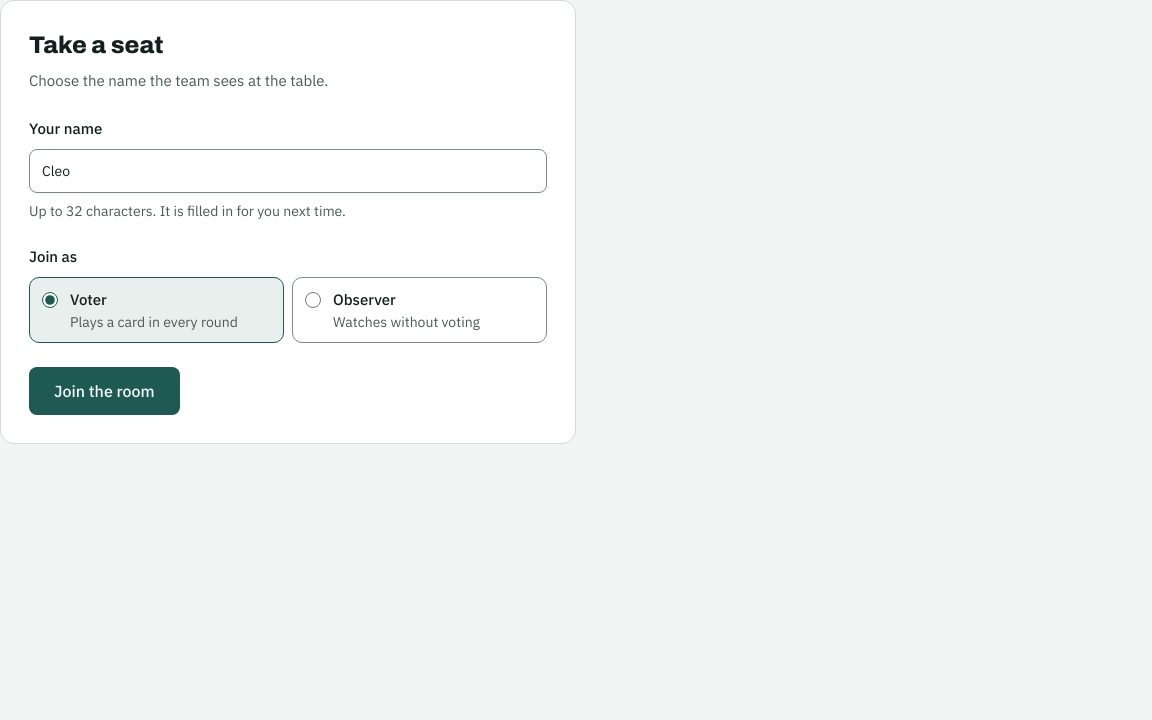
Test case: the join form › prefills the saved name, saves it, then joins with the role picked
expect the radio button labelled "Voter Plays a card in every round" is checked: met, box [42,292,58,308]
Replace the text in the field labelled "Your name" with "  Cleo   M " at (288,171), box [29,149,547,193]
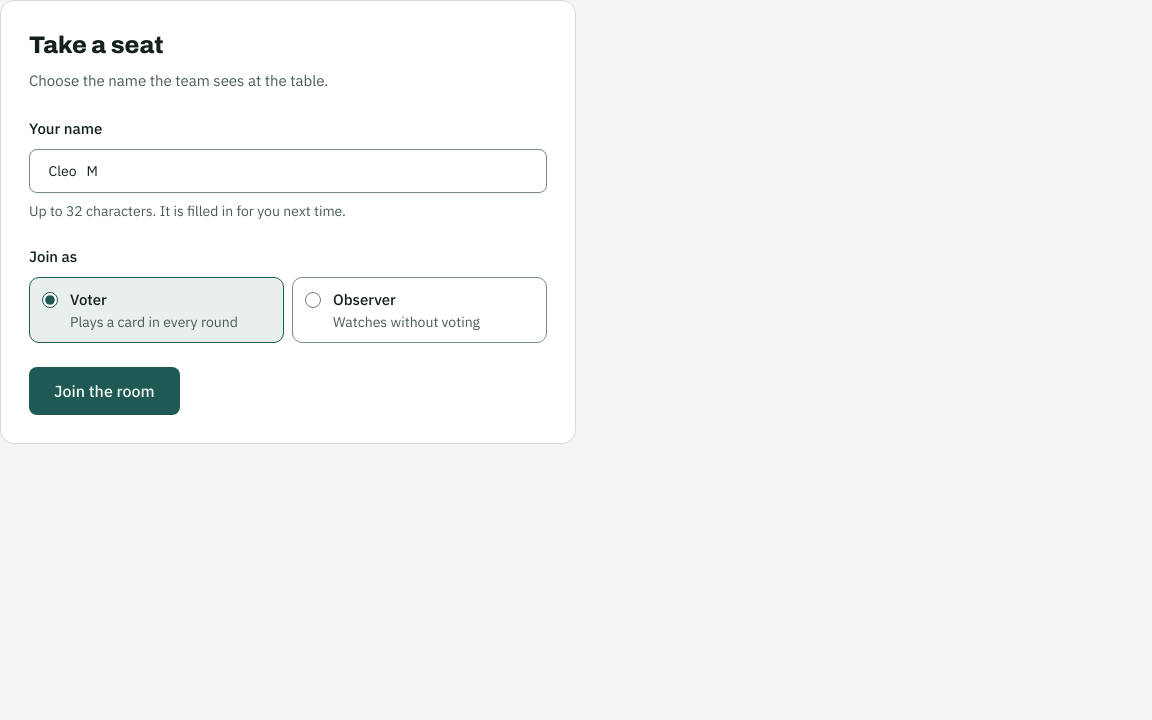
Click the radio button labelled "Observer Watches without voting" at (313,300), box [305,292,321,308]
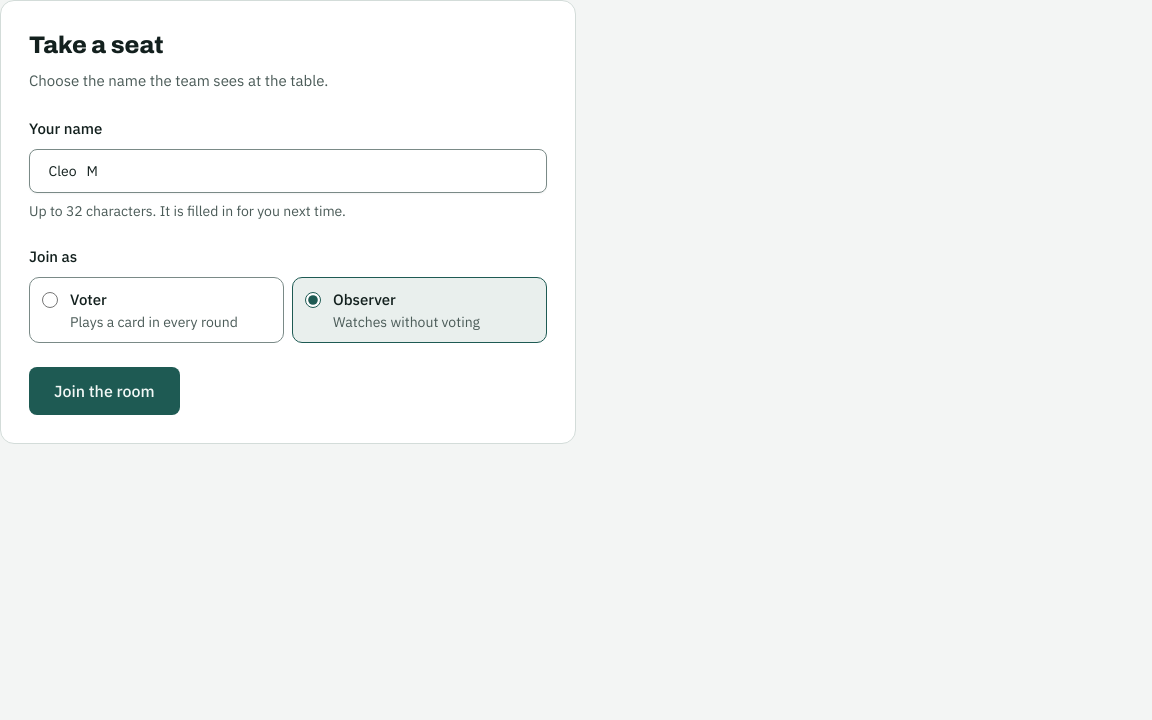
Click the button "Join the room" at (104,391), box [29,367,180,415]
(page scrolled)
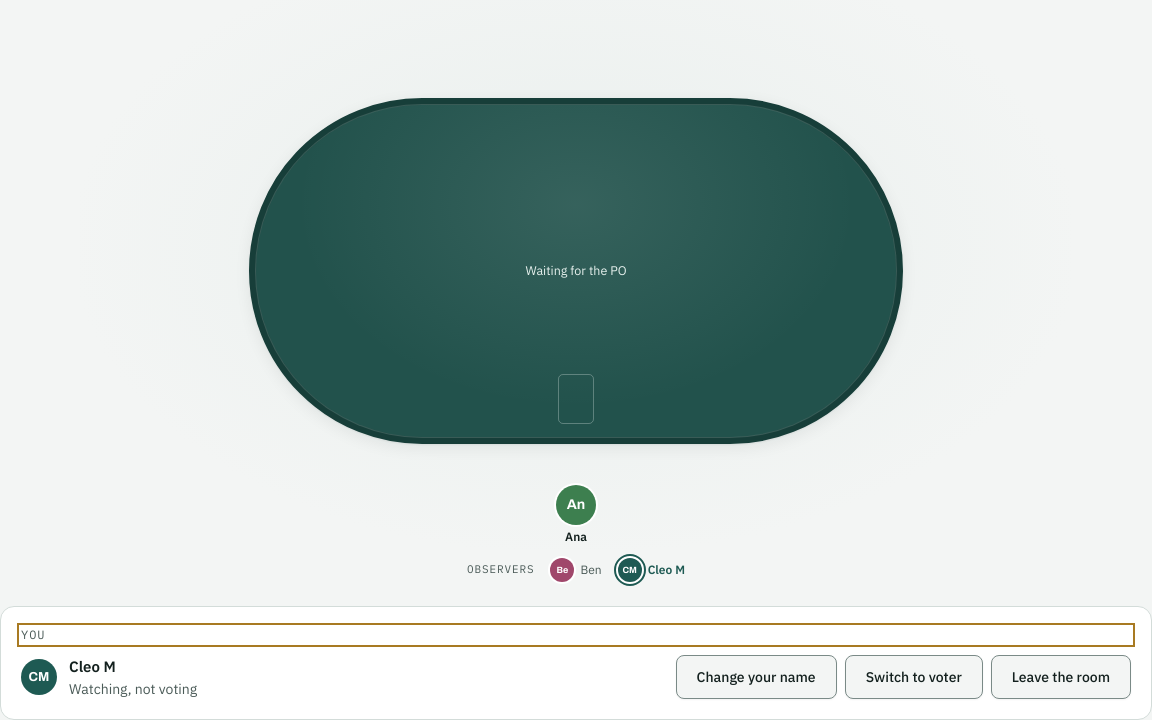
expect the heading "You" is shown: met, box [21,627,46,642]
expect the text "Watching, not voting" is shown: met, box [69,679,197,699]
